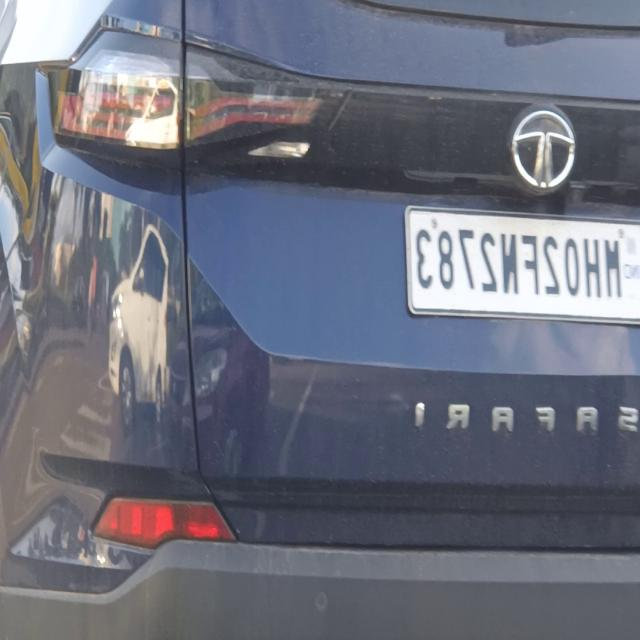license_plate: (399, 197, 640, 332)
